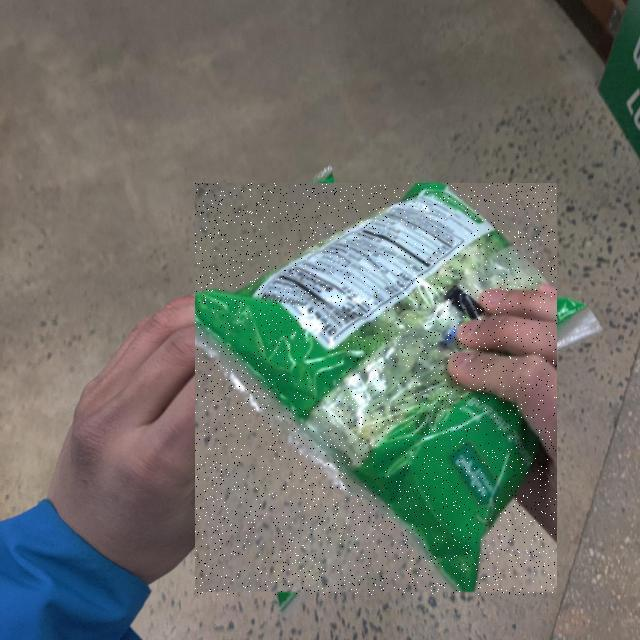Lettuce: (195, 184, 557, 596)
